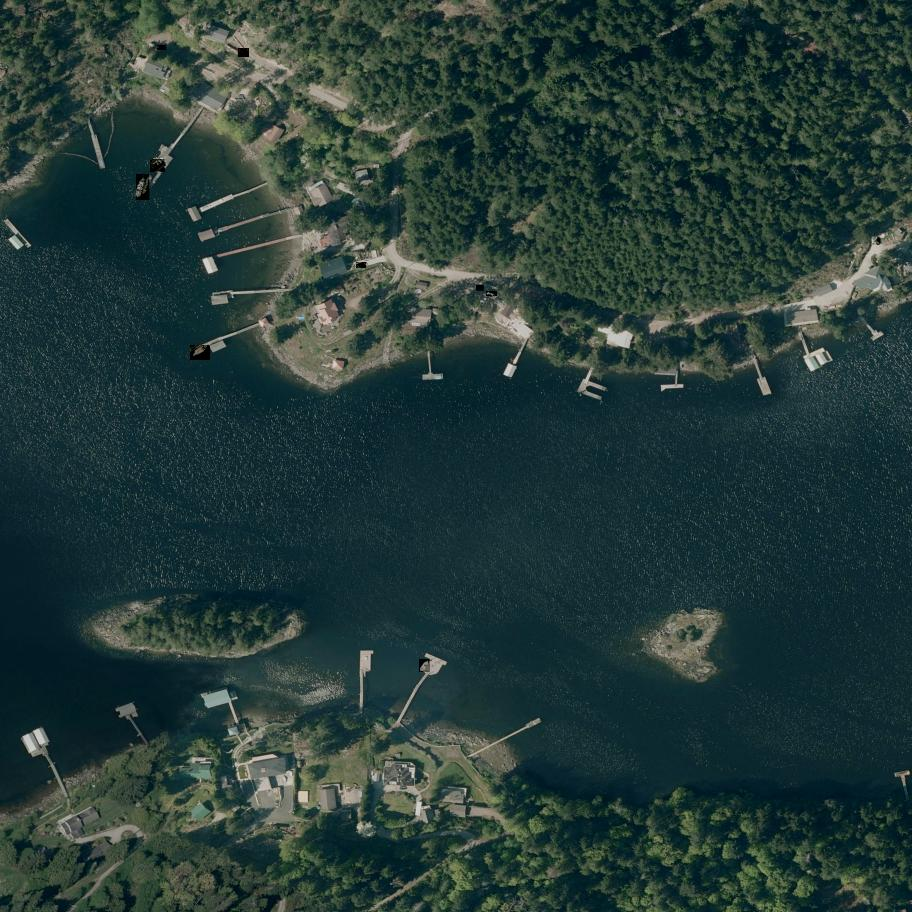large-vehicle: (486, 292, 497, 297)
ship: (136, 173, 150, 201), (190, 345, 211, 361), (151, 159, 167, 173), (420, 659, 432, 674)
small-vehicle: (238, 48, 249, 58), (356, 262, 367, 270), (873, 237, 881, 246), (236, 94, 243, 101), (476, 286, 484, 292), (157, 45, 166, 50)
